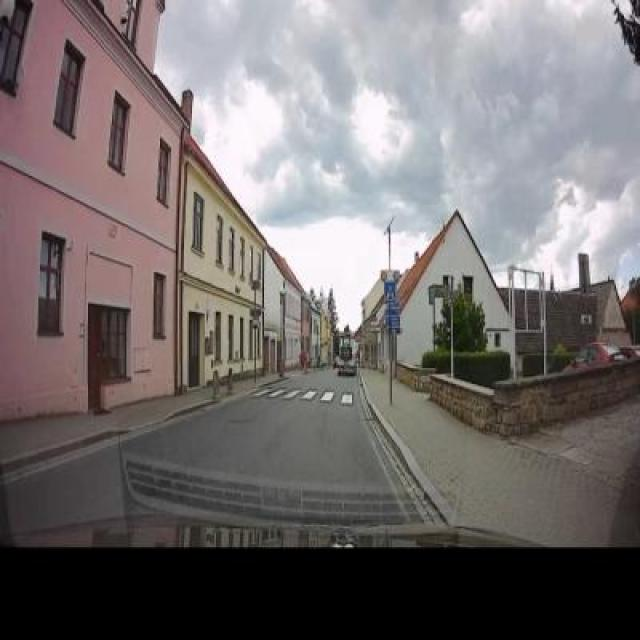clear-road: (122, 371, 390, 485)
